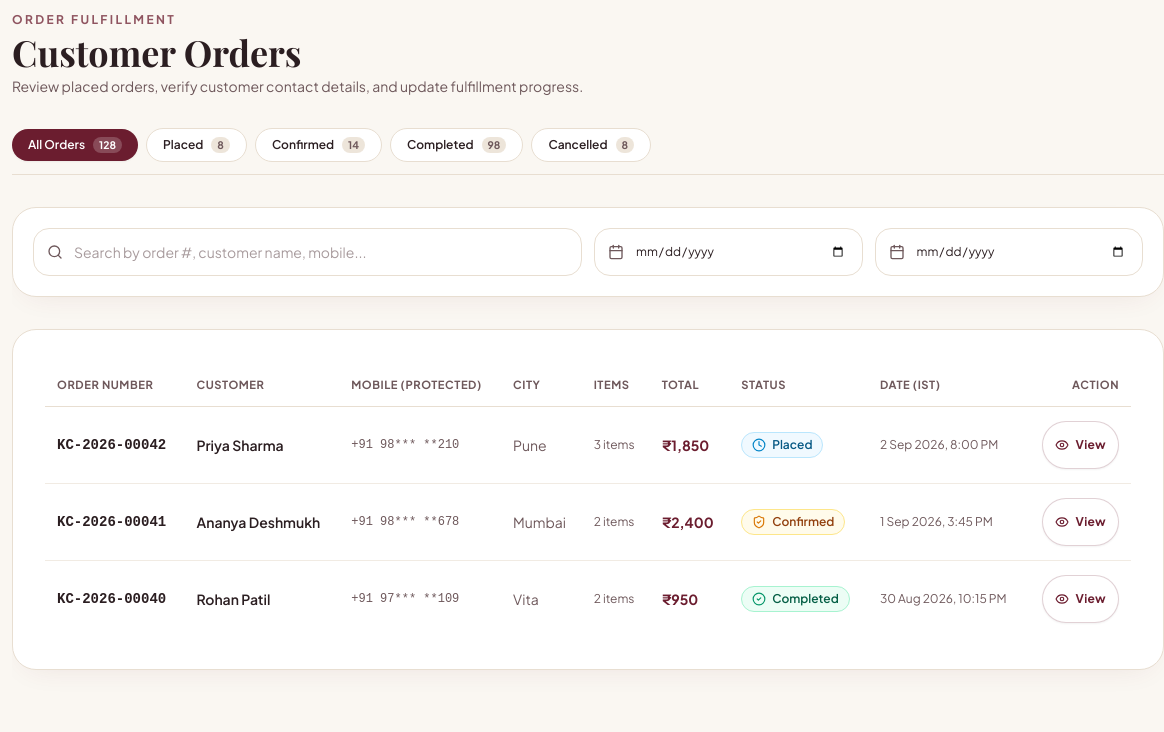
Test: AdminOrdersPage › searches orders by order number or customer name with debouncing
The width and height of the screenshot is (1164, 732).
Expected: the text "KC-2026-00042" is shown, [57, 435, 166, 455]
Type "Rohan" into the field named "Search orders by number, customer, or phone" at (308, 252), box [33, 228, 582, 276]
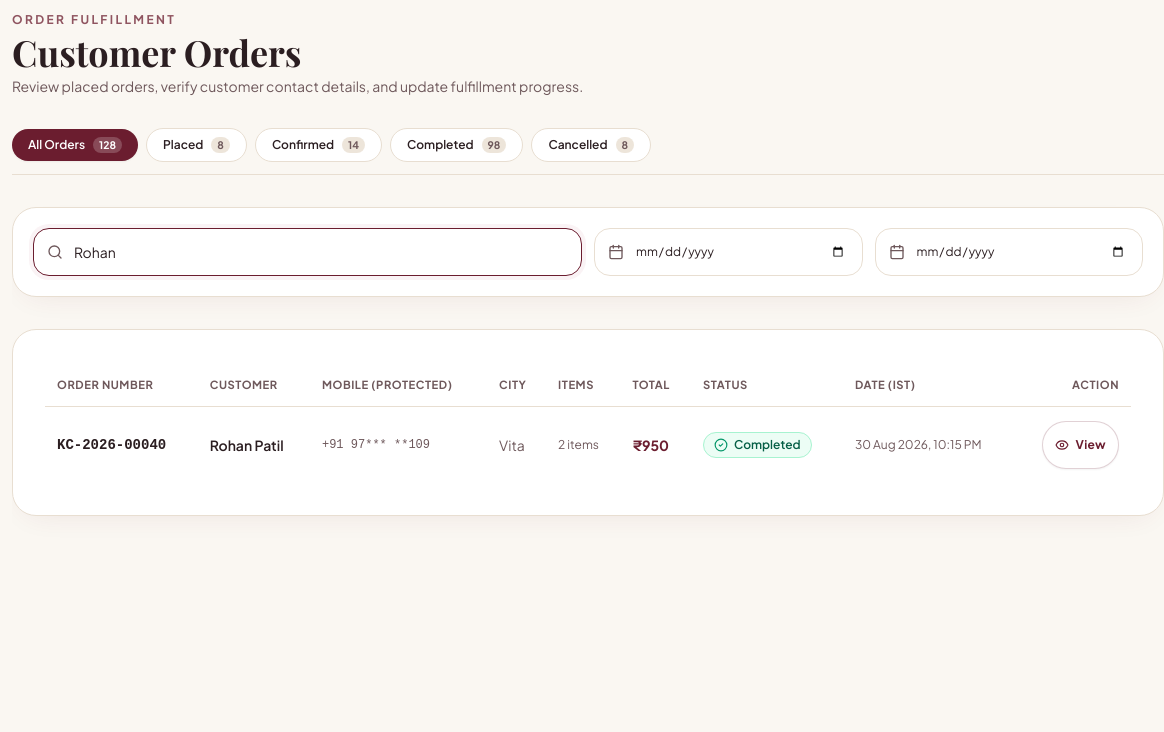
Expected: the text "Rohan Patil" is shown, [198, 406, 310, 483]
Now the text "Priya Sharma" is gone
